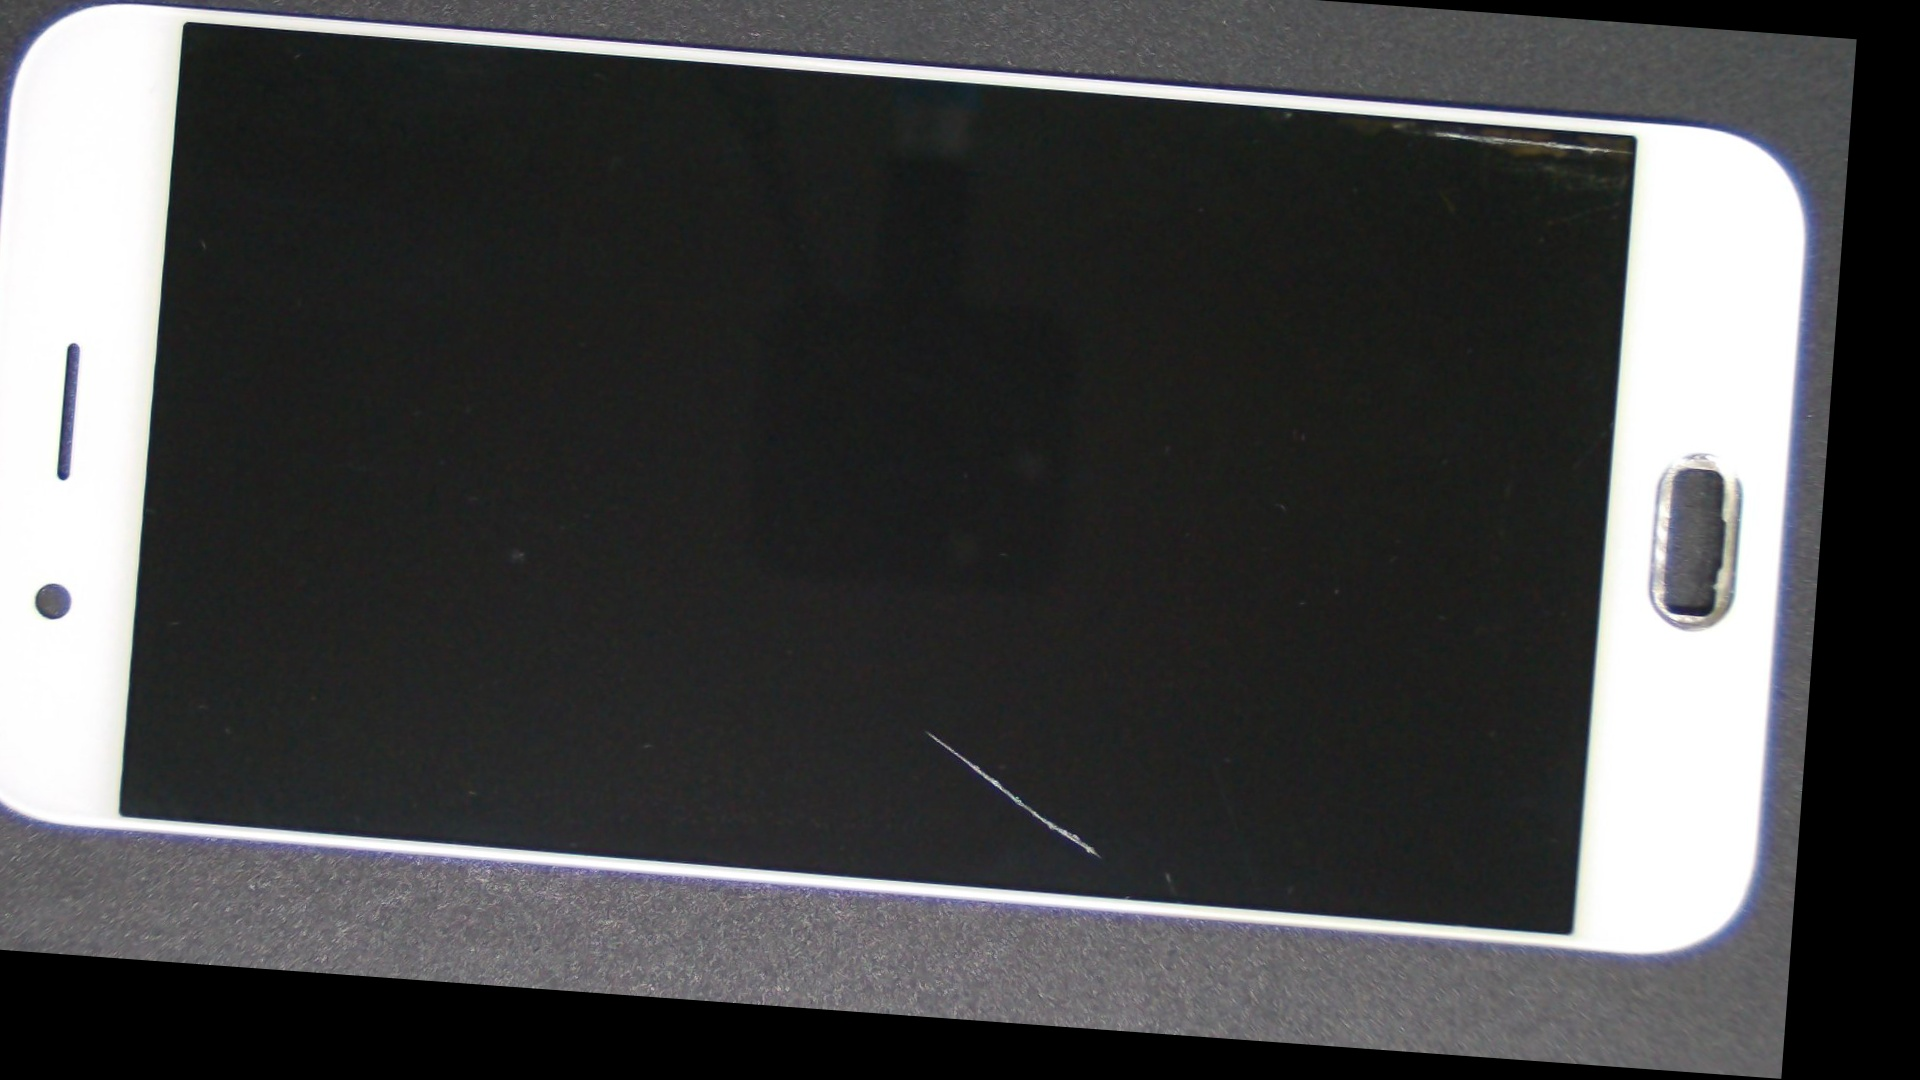oil: (389, 315, 1465, 1052), (679, 15, 1853, 220)
